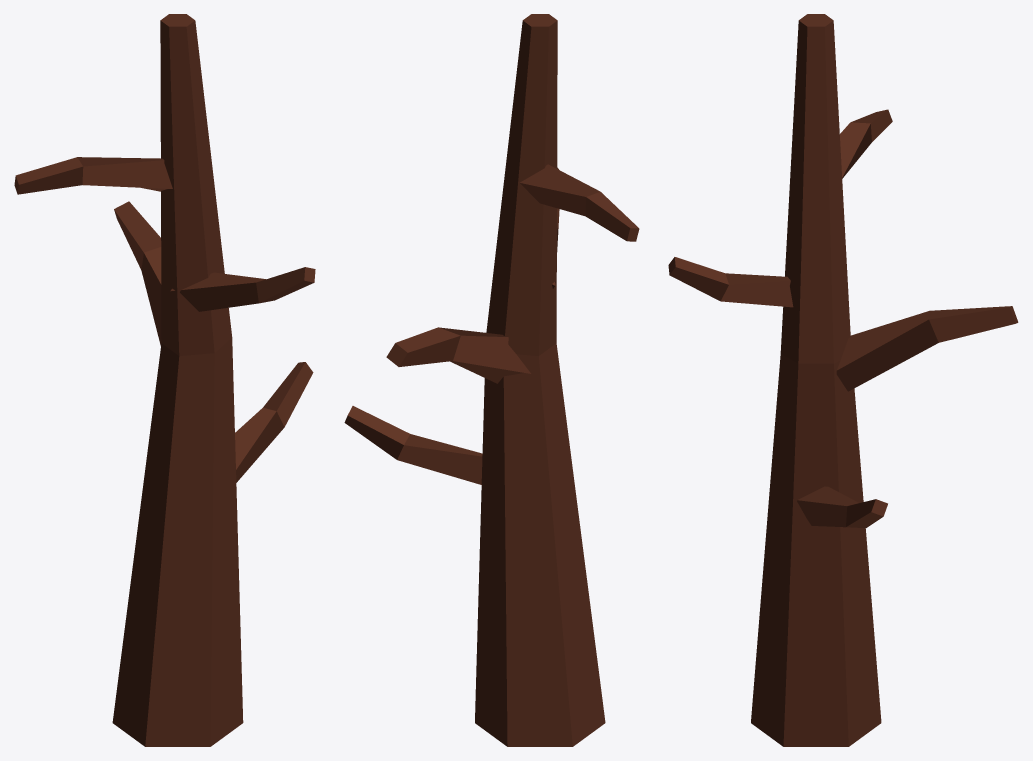
The model's file is tree-stage-2.glb.
3 renders of one model, left to right at view 1: azimuth 30°, elevation 25°; view 2: azimuth 150°, elevation 25°; view 3: azimuth 270°, elevation 25°, orthographic.
Parts seen in each view (by area): view 1: TreeStage2; view 2: TreeStage2; view 3: TreeStage2.
Part boxes in pixels (x1,y1,x2,y2): TreeStage2: [14, 14, 315, 746]; TreeStage2: [344, 14, 639, 746]; TreeStage2: [668, 14, 1018, 746].
Size of the model in its own units: 1.55 by 3.56 by 1.61.
